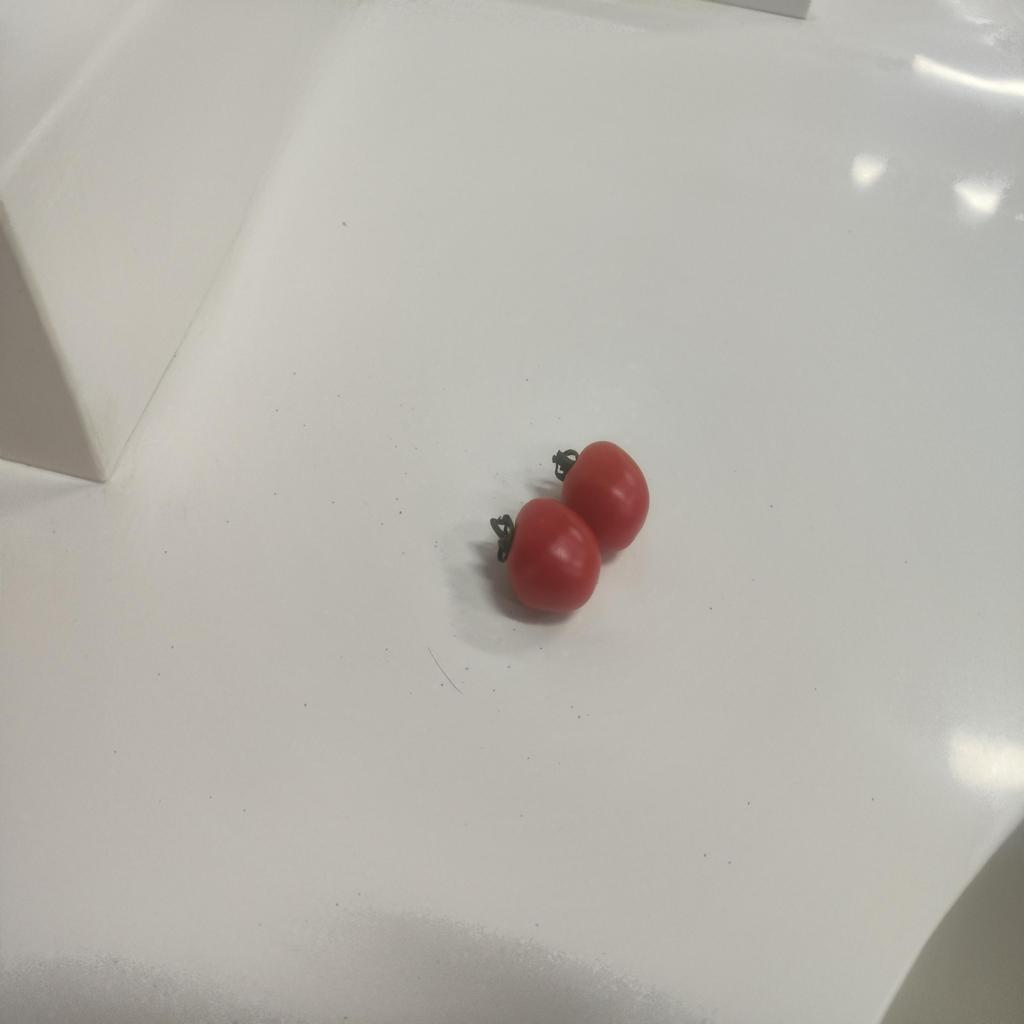tomato: (504, 490, 603, 625), (553, 435, 660, 559)
